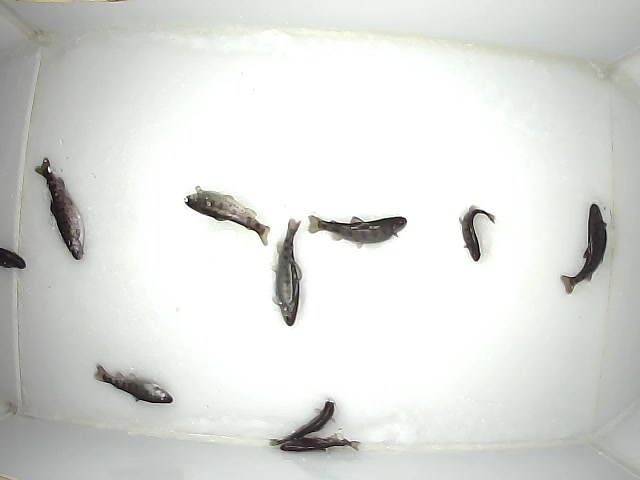fish: (184, 183, 272, 248), (32, 155, 85, 261), (557, 201, 610, 297), (305, 210, 417, 252), (269, 211, 305, 327), (92, 362, 175, 406), (266, 398, 337, 449), (457, 204, 496, 264), (277, 433, 362, 453)
